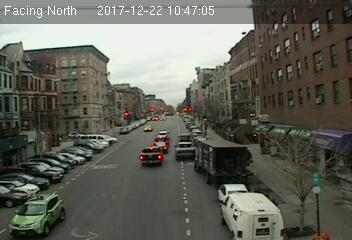car: (8, 192, 67, 236), (216, 183, 249, 201), (139, 147, 163, 166), (173, 142, 196, 158), (179, 133, 191, 140)
truck: (220, 193, 286, 240), (193, 139, 248, 181)
